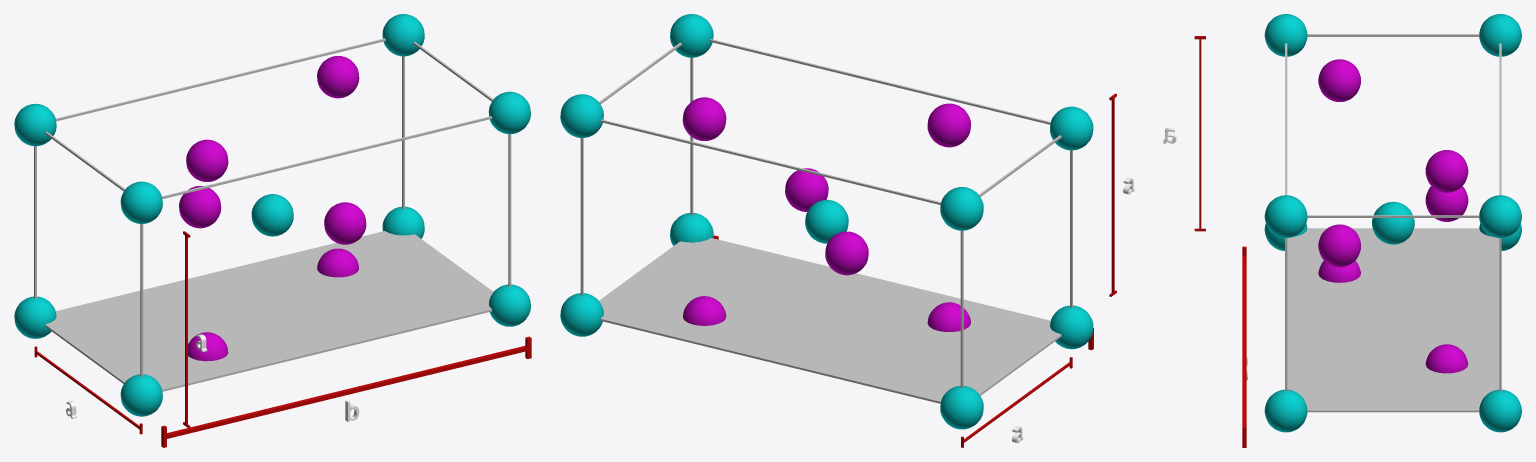
The model's file is rutilovolume_centrado_celda.glb.
The picture shows the model from 3 angles, left to right: view 1: azimuth 30°, elevation 25°; view 2: azimuth 150°, elevation 25°; view 3: azimuth 270°, elevation 25°; orthographic projection. The views are drawn at different scales.
Parts seen in each view (by area): view 1: centro15; view 2: centro15; view 3: centro15.
Part boxes in pixels (box(x1,y1,x2,y2)): centro15: box(14, 14, 531, 447); centro15: box(560, 14, 1134, 447); centro15: box(1163, 14, 1521, 447).
Bounding box in the file's own units: 2.2 × 1.43 × 1.67.
